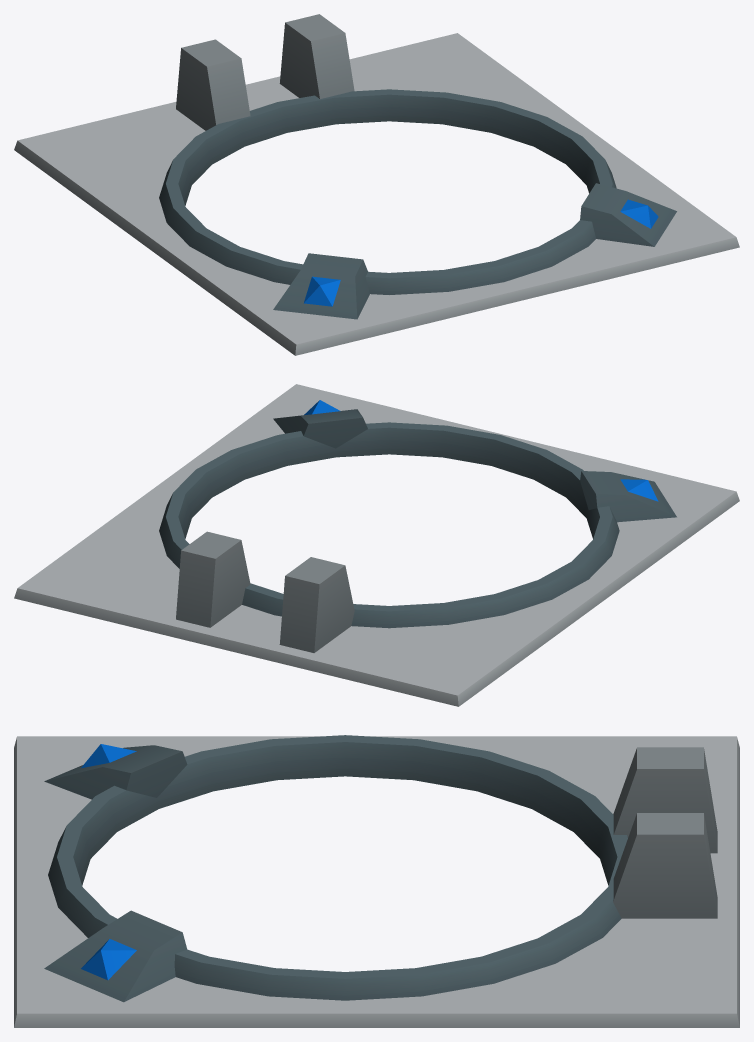
The model's file is Hatch_010.fbx.
3 views of the same model, one above another, from view 1: azimuth 30°, elevation 25°; view 2: azimuth 150°, elevation 25°; view 3: azimuth 270°, elevation 25° (orthographic). The views are drawn at different scales.
Visible parts, largest first — view 1: Hatch_010; view 2: Hatch_010; view 3: Hatch_010.
Part boxes in pixels (box(x1,y1,x2,y2)): Hatch_010: box(14, 14, 739, 355); Hatch_010: box(14, 384, 739, 706); Hatch_010: box(14, 735, 739, 1027).
Bounding box in the file's own units: 99.47 × 109 × 16.04.
